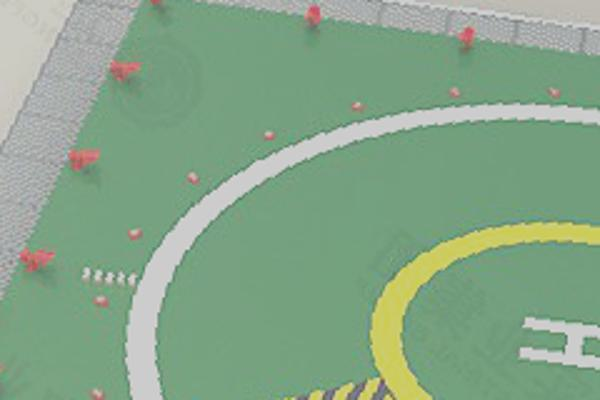Apron: (355, 206, 600, 400)
